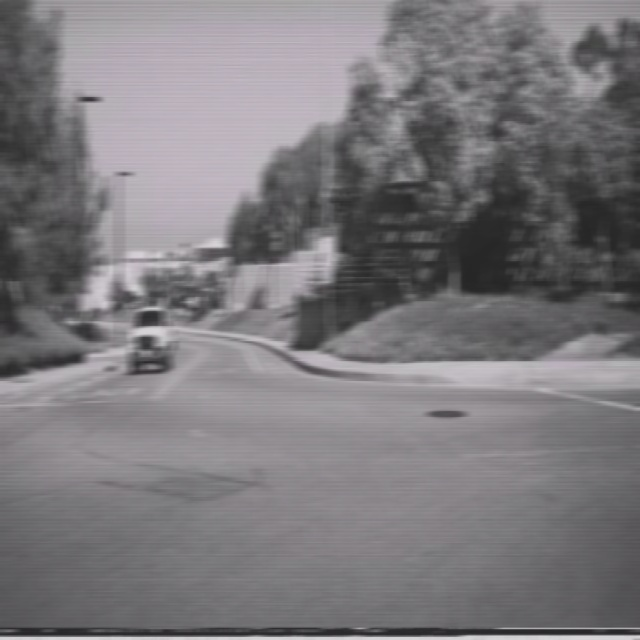speedLimit25: (323, 237, 334, 266)
